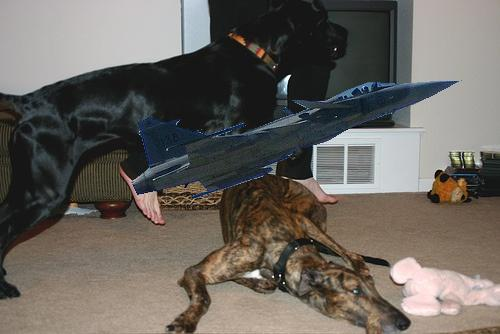tampered: (132, 80, 463, 198)
